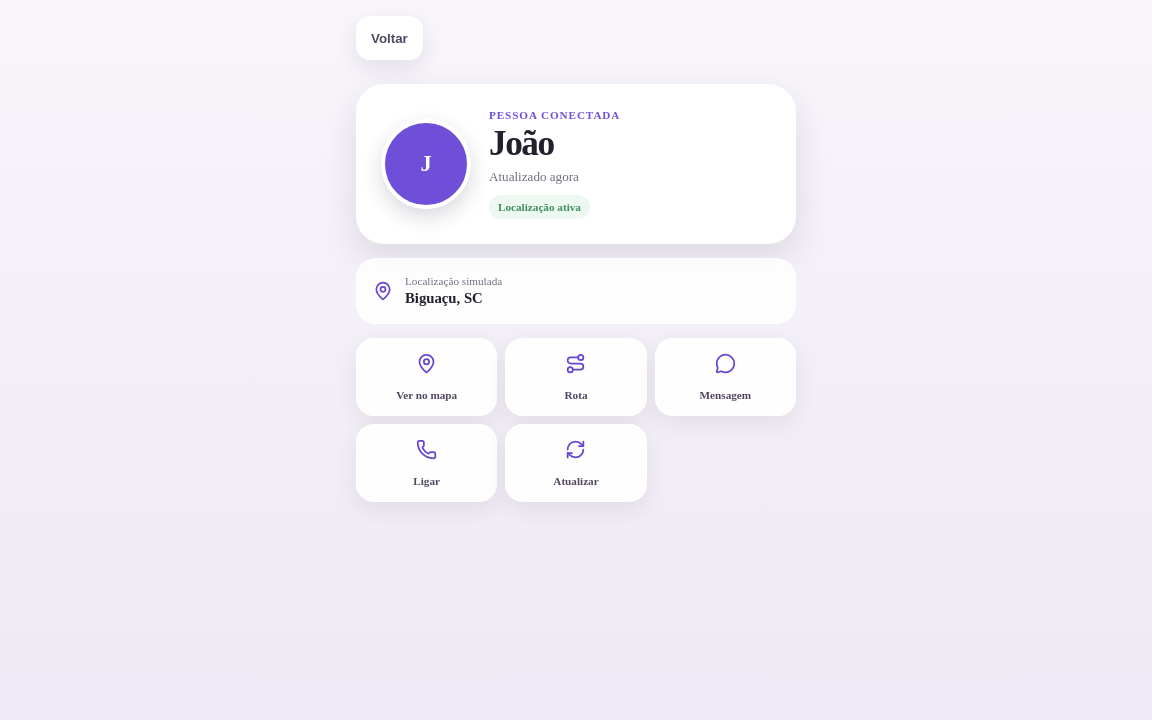
Test: PersonDetailPage › mostra feedback local para Rota
The width and height of the screenshot is (1152, 720).
Click the button "Rota".
click(576, 377)  # box [505,338,647,416]
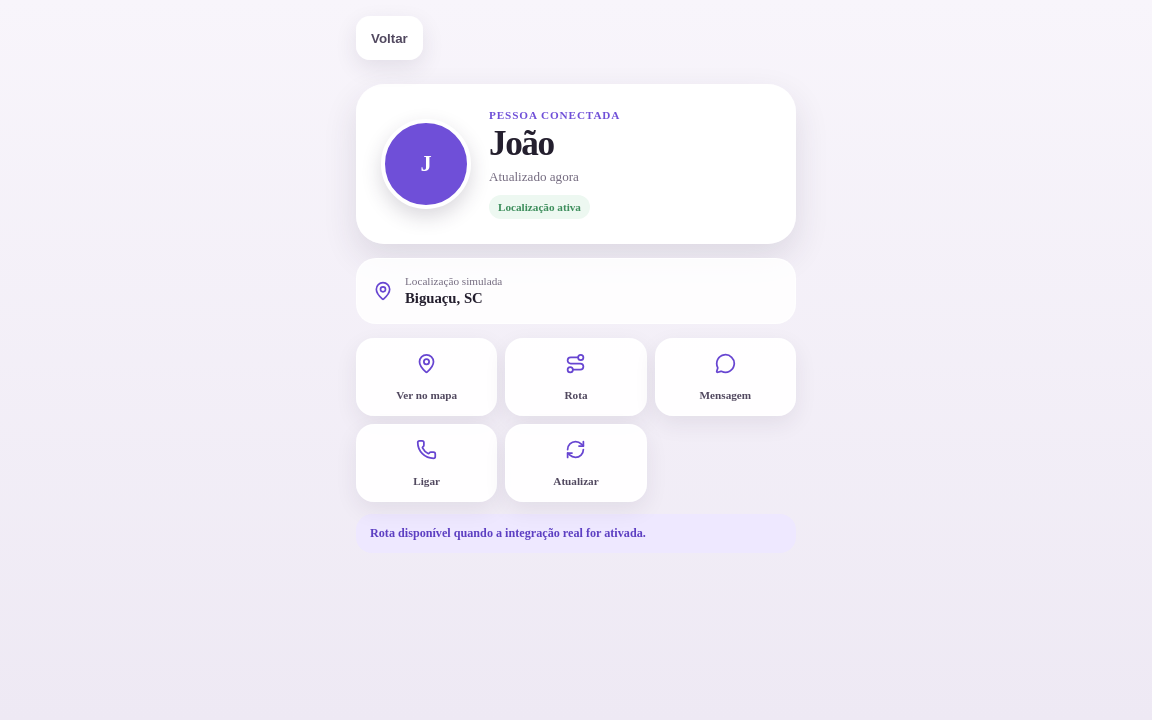
Expected: the message reads "Rota disponível quando a integração real for ativada.", [370,526,646,540]
